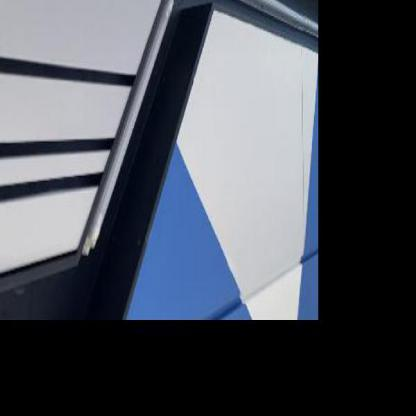light_off: (71, 0, 176, 279), (194, 0, 342, 64)
